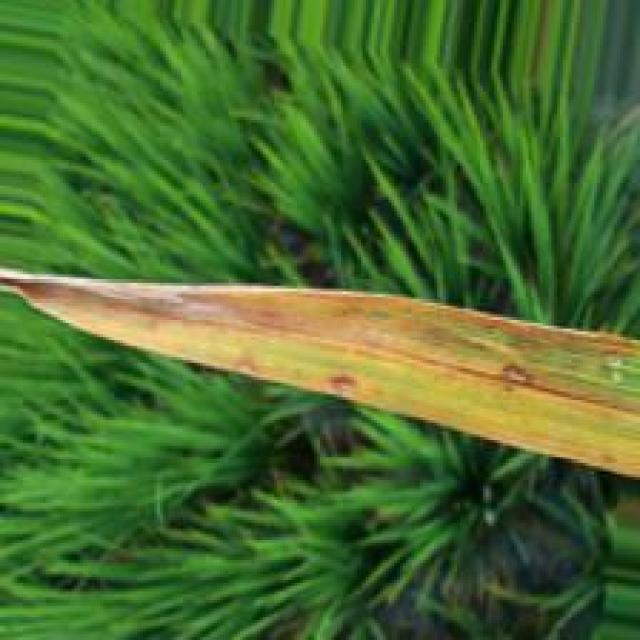Bacterial_Leaf_Blight: (1, 270, 640, 422)
